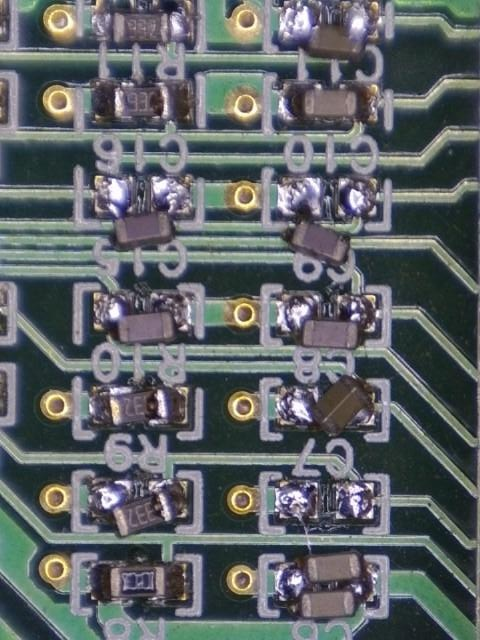pcb_defect: (278, 176, 377, 266), (95, 175, 192, 251), (280, 551, 375, 619), (278, 0, 379, 62), (278, 374, 375, 438), (276, 291, 376, 350), (89, 479, 189, 537), (93, 291, 191, 345), (92, 0, 195, 43), (91, 385, 190, 428)
